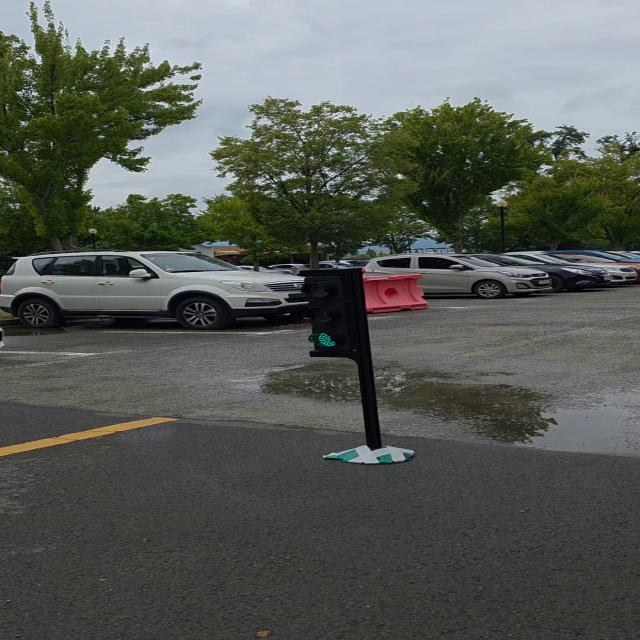green: (304, 269, 370, 361)
